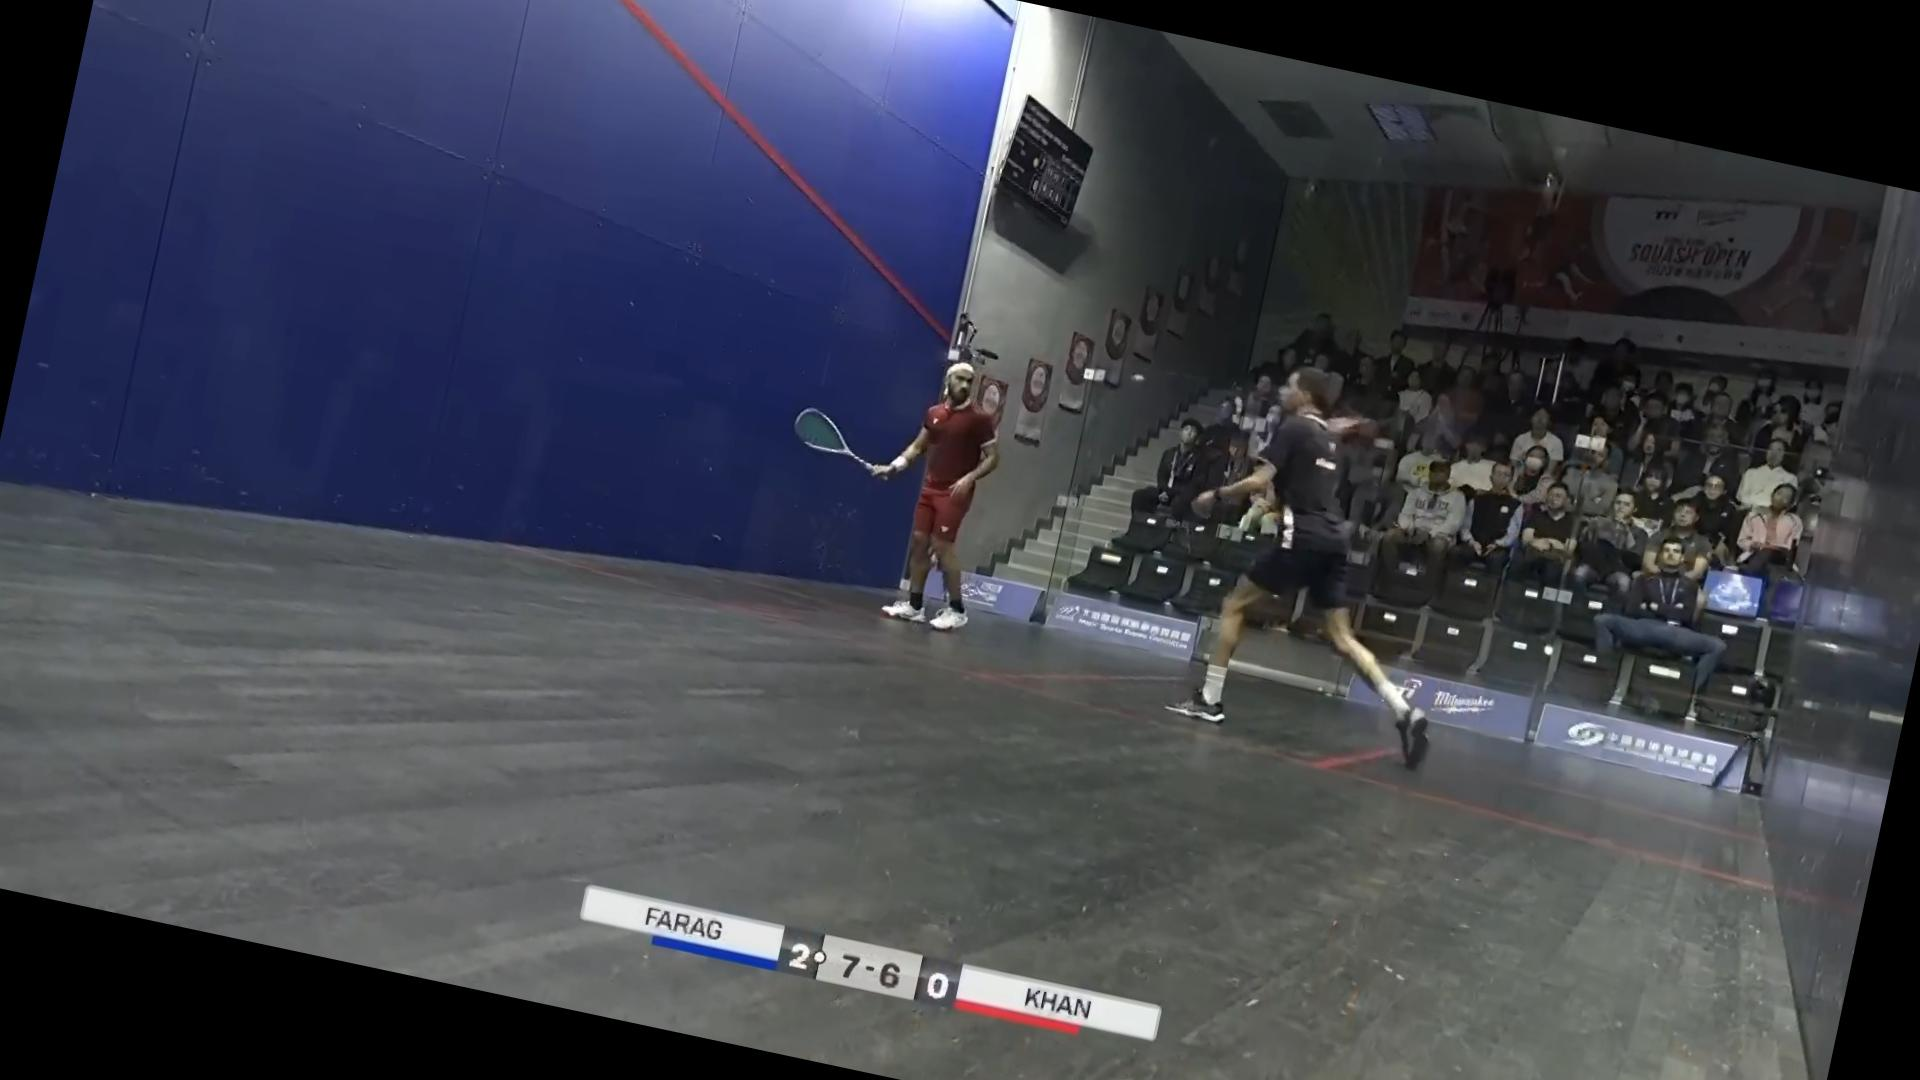Racket: (793, 407, 899, 487)
